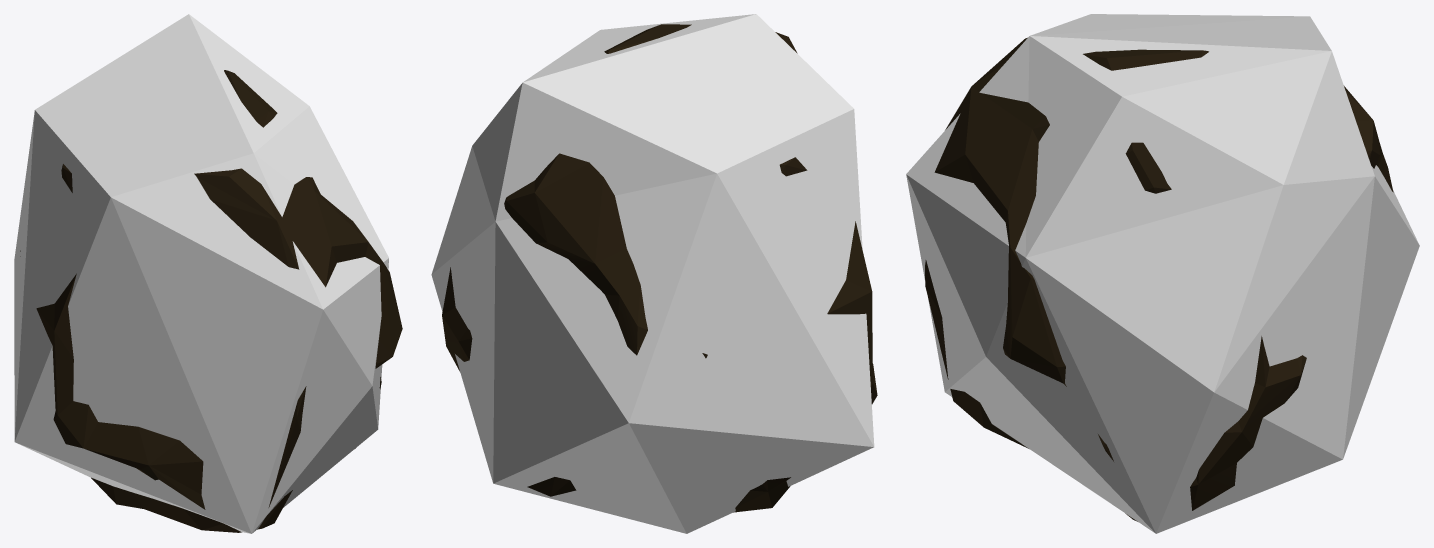
Rendered from model_asteroid_01_d.gltf.
3 views of the same model, side by side, from view 1: azimuth 30°, elevation 25°; view 2: azimuth 150°, elevation 25°; view 3: azimuth 270°, elevation 25° (orthographic). The views are drawn at different scales.
Parts seen in each view (by area): view 1: model_asteroid_01_d_CCX, model_asteroid_01_d; view 2: model_asteroid_01_d_CCX, model_asteroid_01_d; view 3: model_asteroid_01_d_CCX, model_asteroid_01_d.
Boxes of the visible parts, x1,y1,x2,y2 form: model_asteroid_01_d_CCX: [14, 14, 388, 533]; model_asteroid_01_d: [20, 70, 402, 532]; model_asteroid_01_d_CCX: [431, 14, 874, 533]; model_asteroid_01_d: [442, 24, 877, 512]; model_asteroid_01_d_CCX: [906, 14, 1419, 533]; model_asteroid_01_d: [925, 37, 1393, 521].
Size of the model in its own units: 1.82 by 2 by 1.93.
Materials: 1 (1 with a texture image).
